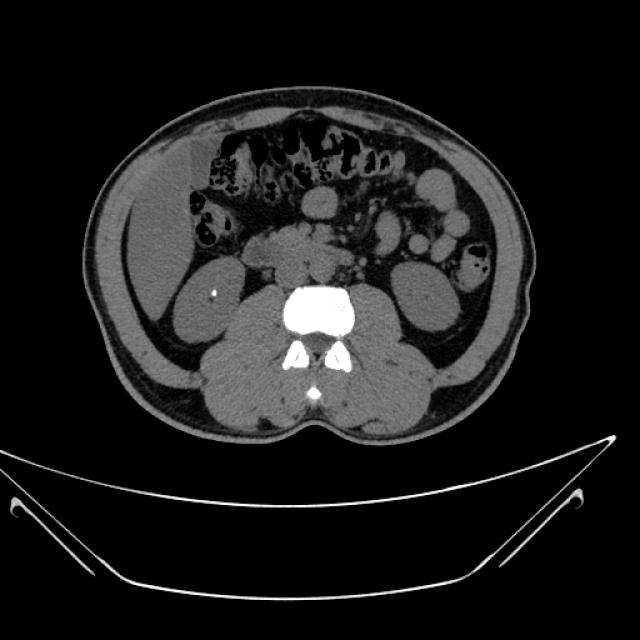kidney: (172, 252, 252, 346), (394, 259, 464, 334)
stone: (207, 282, 221, 300)
